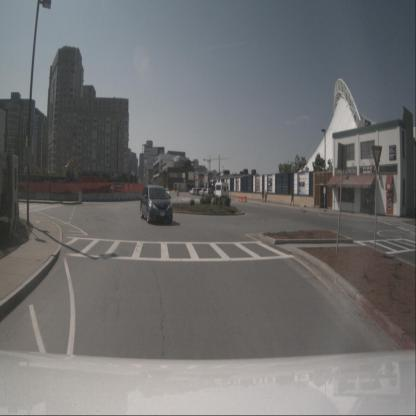barrier: (112, 192, 129, 201), (97, 192, 112, 202), (82, 192, 97, 202), (50, 192, 66, 200), (21, 192, 36, 200), (66, 193, 79, 202), (36, 192, 50, 200), (134, 192, 142, 200), (129, 192, 135, 200), (241, 196, 247, 202), (237, 196, 241, 202)
